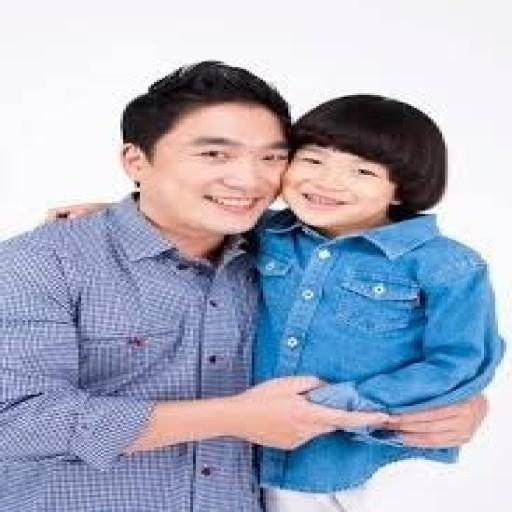hugging: (0, 59, 506, 510)
